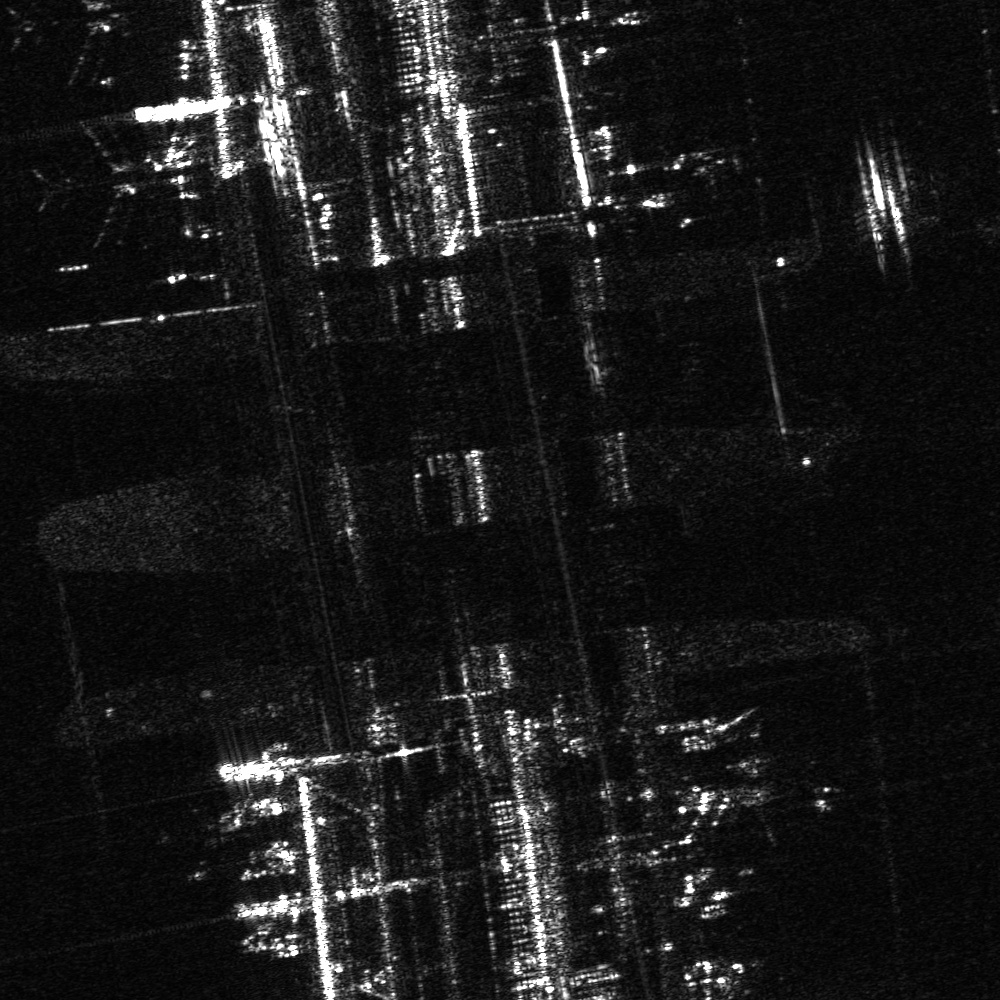A330: (25, 122, 171, 250)
